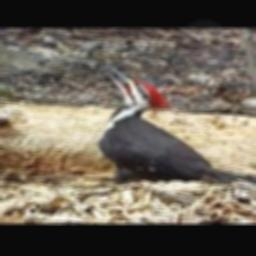Woodpecker: (97, 68, 256, 185)
